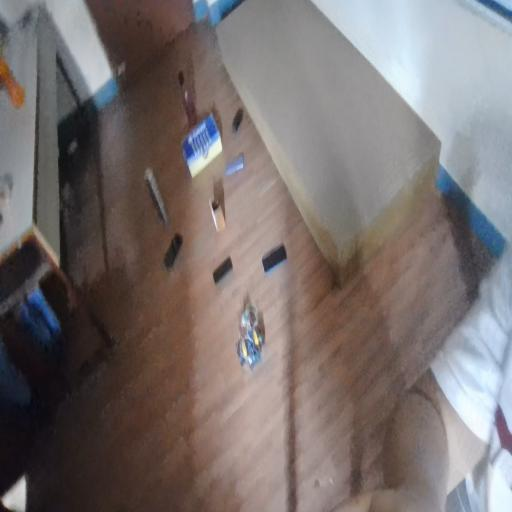Bottle: (180, 65, 199, 116)
car: (235, 309, 255, 339)
